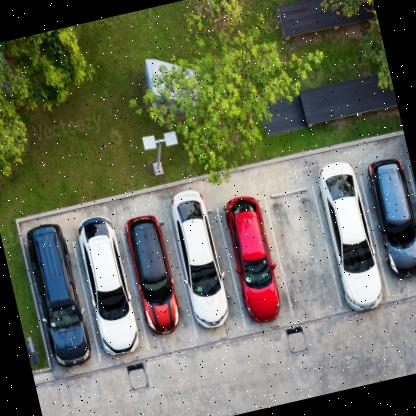Car: (312, 148, 390, 324), (21, 220, 96, 372), (74, 214, 146, 360), (222, 188, 292, 334), (167, 184, 235, 334), (122, 210, 185, 346), (360, 157, 416, 286)
Empty: (263, 176, 343, 330)
